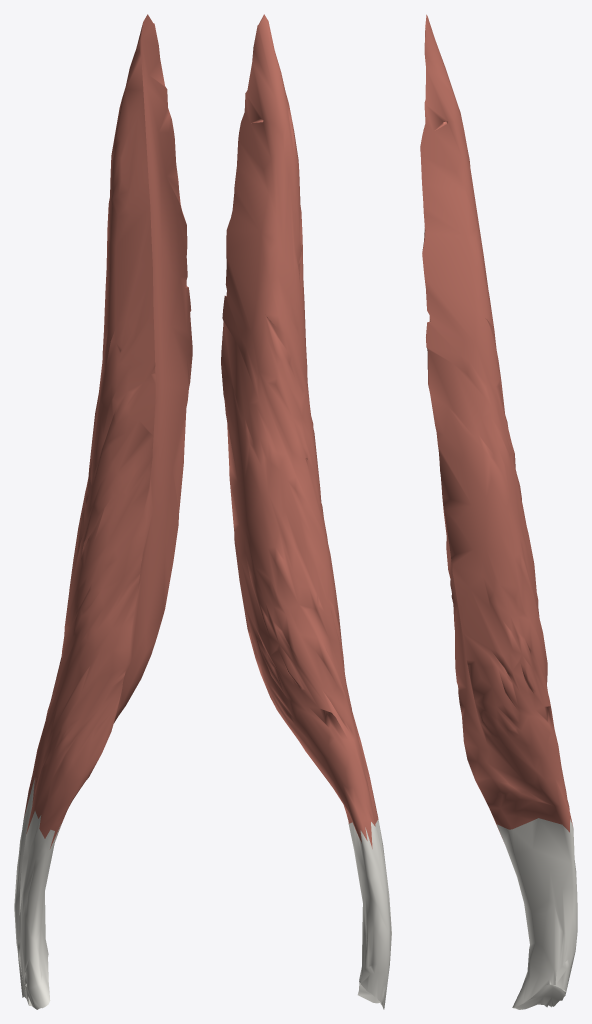
The model's file is biceps-court.glb.
3 views of the same model, side by side, from view 1: azimuth 30°, elevation 25°; view 2: azimuth 210°, elevation 25°; view 3: azimuth 270°, elevation 25° (orthographic). The views are drawn at different scales.
Visible parts, largest first — view 1: biceps-court; view 2: biceps-court; view 3: biceps-court.
Boxes of the visible parts, x1,y1,x2,y2 form: biceps-court: (14, 14, 192, 1009); biceps-court: (221, 14, 391, 1009); biceps-court: (420, 14, 577, 1009).
Size of the model in its own units: 0.0369 by 0.3013 by 0.0419.
